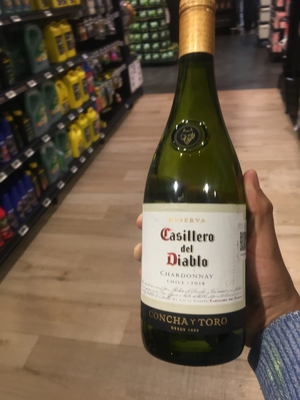casillero del diablo chardonnay: (137, 19, 252, 355)
